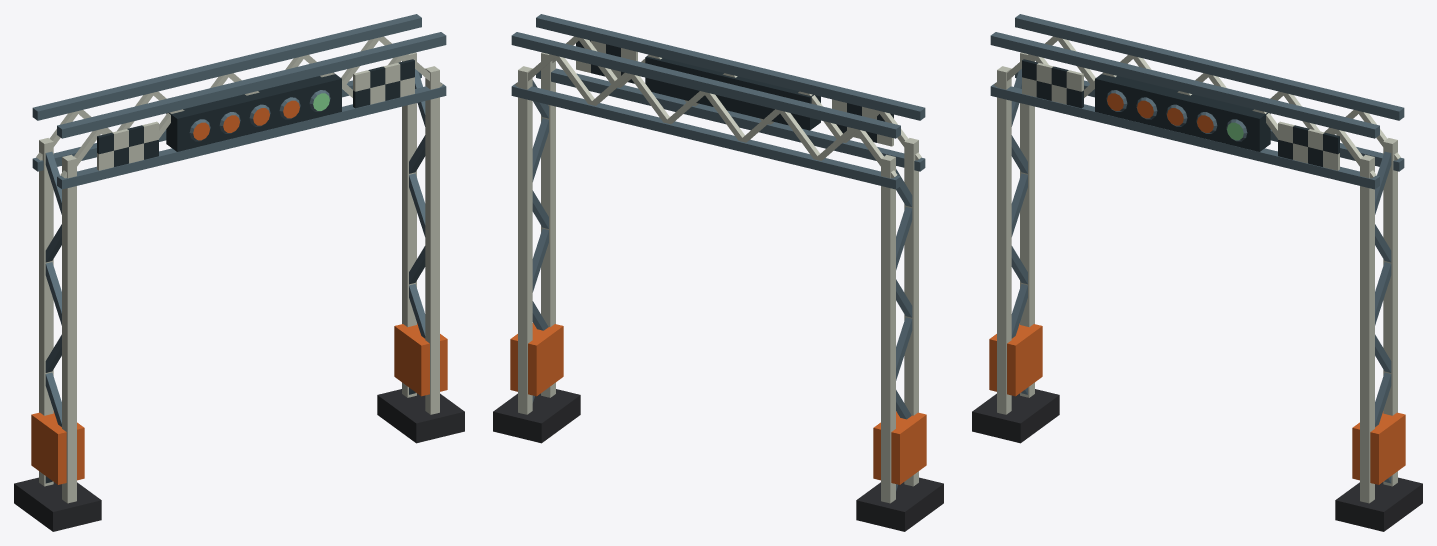
The model's file is mobile-gantry.glb.
3 renders of one model, left to right at view 1: azimuth 30°, elevation 25°; view 2: azimuth 150°, elevation 25°; view 3: azimuth 330°, elevation 25°, orthographic.
Parts seen in each view (by area): view 1: PROP_mobile_gantry; view 2: PROP_mobile_gantry; view 3: PROP_mobile_gantry.
Boxes of the visible parts, left/top/right/bottom form: PROP_mobile_gantry: left=14, top=14, right=464, bottom=531; PROP_mobile_gantry: left=493, top=14, right=943, bottom=531; PROP_mobile_gantry: left=972, top=14, right=1422, bottom=531.
Size of the model in its own units: 1.95 by 1.79 by 0.341.
